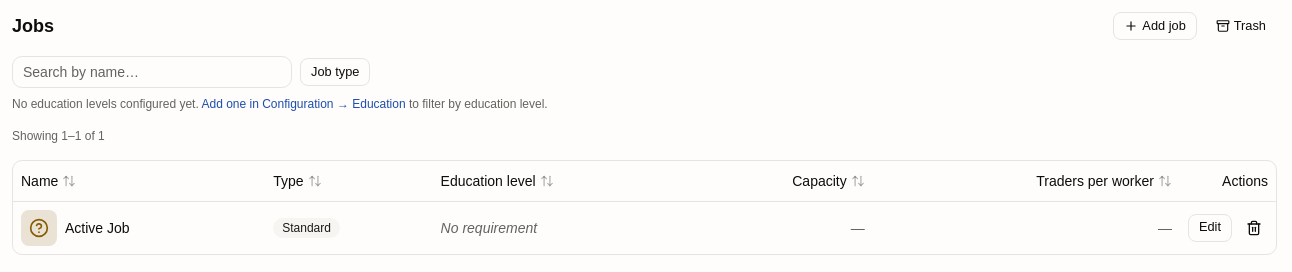
JobsConfigPanel › shows trashed jobs when trash view is toggled
The image size is (1292, 272).
Check: the text "Active Job" is shown, box x1=65 y1=218 x2=130 y2=238
Check: the text "Trashed Job" is not shown
Step 1. Click the button with aria-label "Show trash" → [1241, 26], box x1=1205 y1=12 x2=1277 y2=40
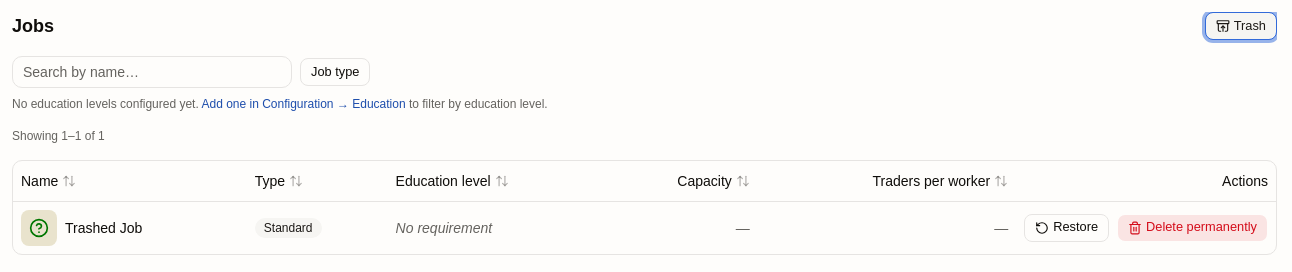
Check: the text "Trashed Job" is shown, box x1=65 y1=218 x2=142 y2=238
Check: the button with aria-label "Hide trash" is shown, box x1=1205 y1=12 x2=1277 y2=40
